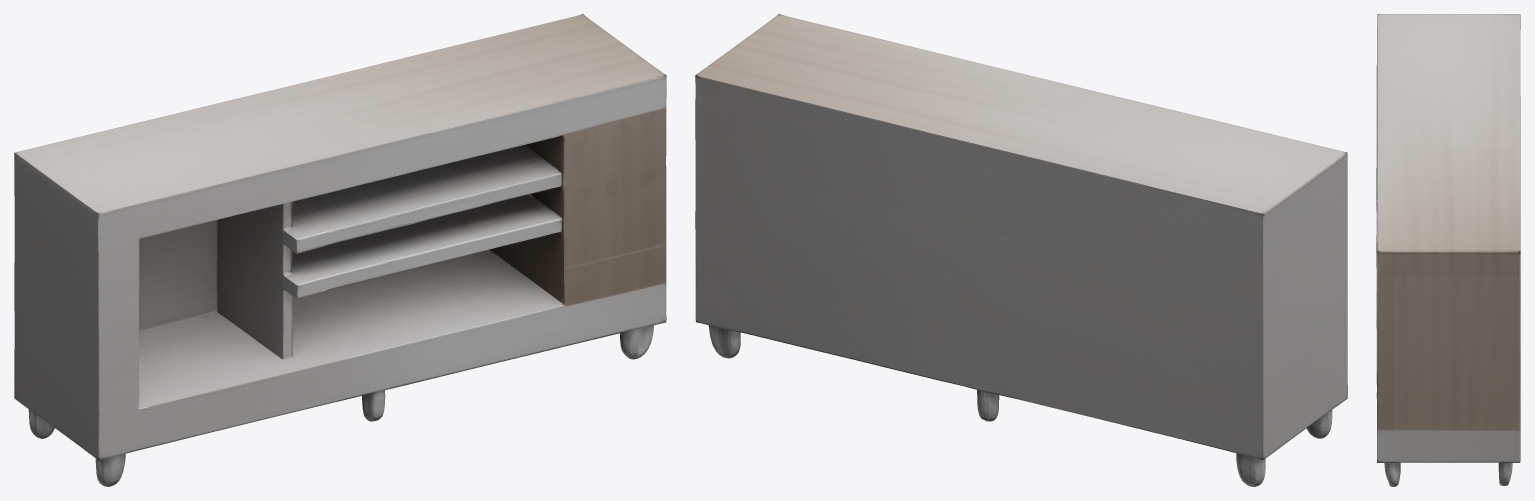
Rendered from mwbr21a_b_tv_stand.glb.
3 views of the same model, side by side, from view 1: azimuth 30°, elevation 25°; view 2: azimuth 150°, elevation 25°; view 3: azimuth 270°, elevation 25° (orthographic). The views are drawn at different scales.
Parts seen in each view (by area): view 1: world; view 2: world; view 3: world.
Part boxes in pixels (box(x1,y1,x2,y2)): world: box(14, 14, 666, 486); world: box(695, 14, 1347, 486); world: box(1376, 14, 1520, 486).
Bounding box in the file's own units: 0.9997 × 0.4774 × 0.2572.
Materials: 1 (1 with a texture image).
